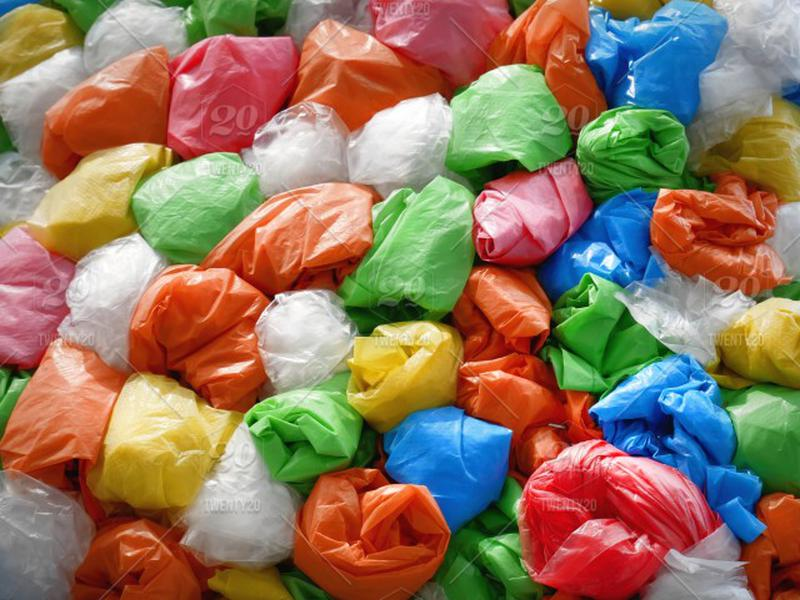plastic: (591, 349, 767, 541), (508, 441, 718, 598), (89, 364, 241, 515), (289, 465, 454, 600), (128, 264, 273, 414), (215, 174, 383, 295), (347, 177, 478, 331), (379, 396, 520, 533), (3, 335, 127, 488), (588, 2, 740, 124), (181, 424, 307, 570), (42, 42, 173, 181), (165, 34, 304, 161), (297, 16, 451, 129), (36, 142, 178, 260), (653, 178, 796, 294), (134, 144, 263, 268), (623, 253, 756, 368), (542, 274, 668, 394), (445, 61, 573, 176), (345, 321, 472, 434), (57, 235, 163, 369), (245, 378, 373, 484), (577, 104, 692, 201), (346, 90, 459, 184), (251, 288, 357, 383), (719, 384, 800, 495), (713, 294, 800, 388)
